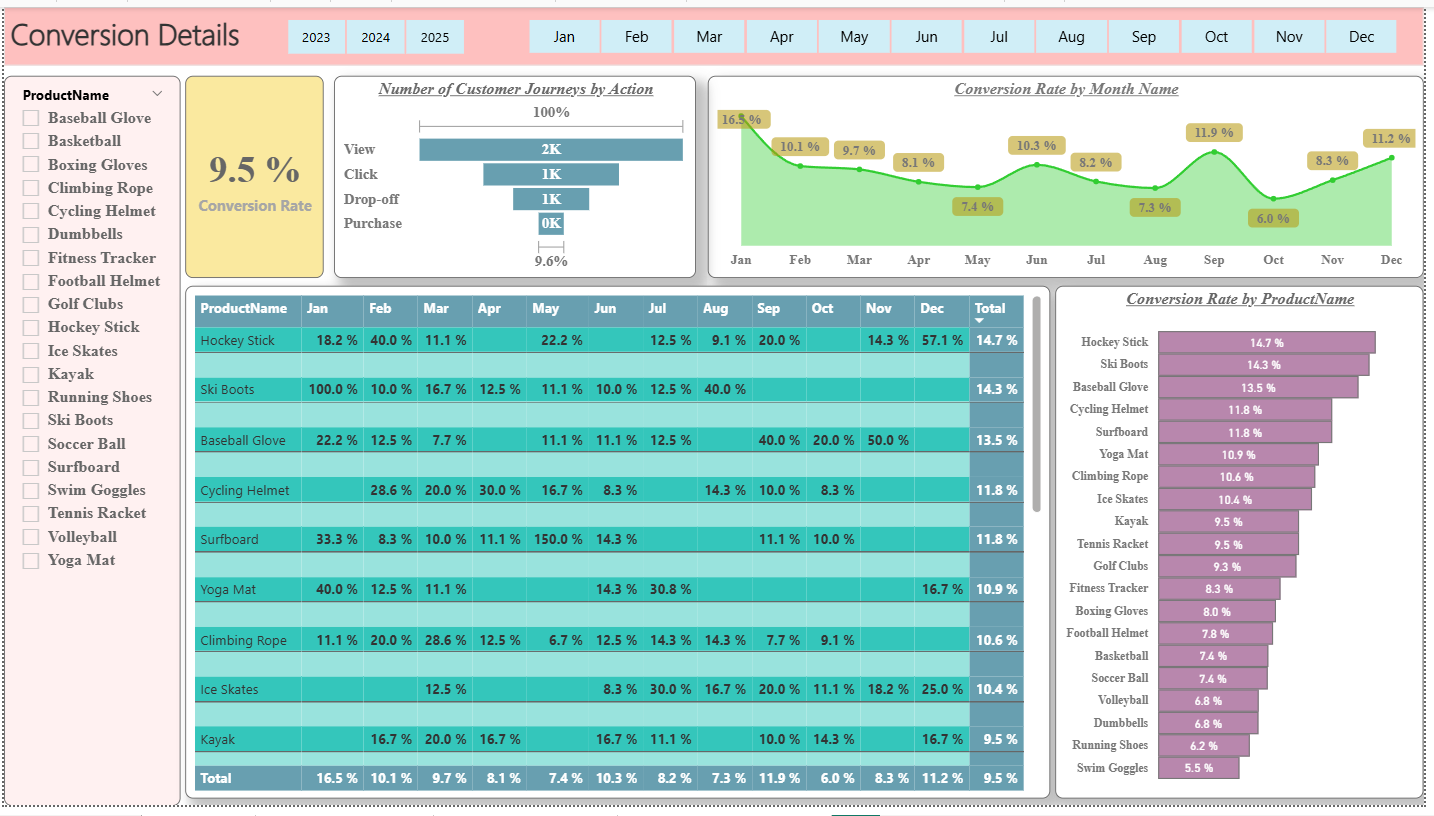

The page's visual inventory and layout, read from the dashboard file:
{"tool":"powerbi","page":{"name":"Conversion Details","canvas":[1280,720],"ordinal":1},"visuals":[{"type":"textbox","box":[0,0,1280,52.6],"z":0},{"type":"slicer","fields":{"Values":["Calendar.Year"]},"box":[230.2,4.1,208.5,44.4],"z":1000},{"type":"slicer","fields":{"Values":["Calendar.MonthNameShort"]},"box":[447.7,4.6,832.3,43.7],"z":2000},{"type":"slicer","fields":{"Values":["dim_products.ProductName"]},"box":[0,61.5,159.5,658.5],"z":3000},{"type":"card","fields":{"Values":["_Calculations.Conversion Rate"]},"box":[164,61.6,124.4,182.6],"z":4000},{"type":"lineChart","title":"Conversion Rate by Month Name","fields":{"Y":["_Calculations.Conversion Rate"],"Category":["Calendar.MonthNameShort"]},"box":[634.9,61.6,645.4,182.6],"z":5000},{"type":"funnel","fields":{"Category":["fact_customer_journey.Action"],"Y":["_Calculations.Number of Customer Journeys"]},"box":[297.7,61.6,326.7,182.6],"z":6000},{"type":"pivotTable","fields":{"Rows":["dim_products.ProductName"],"Values":["_Calculations.Conversion Rate"],"Columns":["Calendar.MonthNameShort"]},"box":[163.6,251.5,779.7,462],"z":7000},{"type":"clusteredBarChart","fields":{"Category":["dim_products.ProductName"],"Y":["_Calculations.Conversion Rate"]},"box":[947.9,251.5,332.1,462],"z":8000}]}

Visuals, with their boxes in screenshot pixels (x1, y1, x2, y2), scaled from the page's 1280x720 canvas onto the 1434x816 screenshot:
textbox: bbox=[0, 0, 1433, 60]
slicer - Calendar.Year: bbox=[258, 5, 491, 55]
slicer - Calendar.MonthNameShort: bbox=[502, 5, 1433, 55]
slicer - dim_products.ProductName: bbox=[0, 70, 179, 815]
card - _Calculations.Conversion Rate: bbox=[184, 70, 323, 277]
"Conversion Rate by Month Name" lineChart: bbox=[711, 70, 1433, 277]
funnel - fact_customer_journey.Action x _Calculations.Number of Customer Journeys: bbox=[334, 70, 700, 277]
pivotTable - dim_products.ProductName x _Calculations.Conversion Rate: bbox=[183, 285, 1057, 809]
clusteredBarChart - dim_products.ProductName x _Calculations.Conversion Rate: bbox=[1062, 285, 1433, 809]
